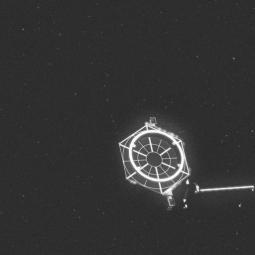earth_observation_sat_1: (104, 109, 203, 216)
